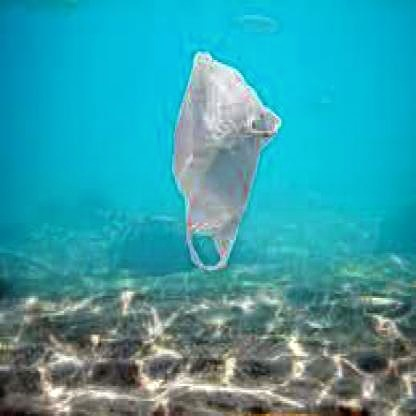pbag: (172, 50, 283, 270)
